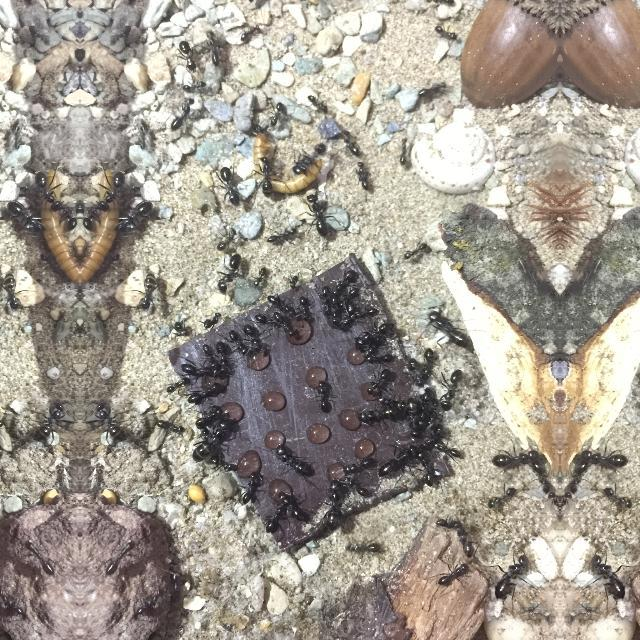Cataglyphis: (264, 422, 318, 480), (425, 298, 473, 350), (490, 548, 530, 606), (590, 548, 630, 606), (100, 534, 138, 580), (22, 534, 60, 580), (290, 139, 330, 181), (307, 361, 338, 415), (116, 195, 154, 238), (6, 195, 44, 238), (489, 438, 536, 472), (92, 397, 125, 445), (270, 479, 306, 523), (584, 438, 630, 472), (327, 456, 375, 488), (36, 397, 68, 445), (323, 496, 362, 534), (437, 364, 465, 416), (346, 342, 396, 371), (378, 441, 416, 479), (234, 466, 266, 510), (204, 449, 250, 479), (434, 556, 471, 592), (357, 316, 398, 348), (304, 188, 330, 238), (97, 167, 125, 213), (214, 162, 242, 208), (348, 404, 394, 432), (35, 167, 63, 213), (262, 489, 288, 538), (168, 94, 198, 134), (321, 478, 343, 532), (399, 398, 426, 442), (214, 254, 242, 296), (412, 78, 454, 106), (325, 266, 359, 300), (340, 306, 388, 330), (359, 367, 396, 398), (530, 456, 556, 500), (564, 456, 590, 500), (186, 379, 224, 409), (239, 264, 269, 302), (484, 481, 518, 514), (602, 481, 636, 514), (425, 435, 465, 463), (134, 270, 158, 316), (2, 270, 26, 316), (150, 411, 186, 441), (178, 356, 214, 386), (80, 196, 106, 234), (54, 196, 80, 234), (454, 518, 478, 558), (344, 534, 382, 558), (400, 237, 432, 265), (267, 222, 301, 248), (176, 35, 198, 75), (340, 454, 376, 478), (256, 154, 276, 196), (236, 18, 264, 48), (420, 344, 440, 386), (242, 321, 270, 351), (272, 310, 298, 342), (200, 340, 224, 374), (417, 387, 437, 427), (227, 328, 250, 362), (204, 26, 222, 66), (317, 282, 335, 322), (216, 226, 240, 254), (267, 290, 295, 314), (434, 21, 461, 45), (353, 162, 373, 194), (306, 91, 330, 117), (340, 130, 362, 158), (328, 296, 356, 318), (266, 98, 286, 128), (296, 292, 314, 324), (134, 120, 152, 152), (8, 120, 26, 152), (180, 76, 208, 96), (250, 262, 270, 290), (200, 308, 223, 332), (171, 316, 193, 339), (396, 132, 410, 168), (164, 374, 186, 396), (406, 352, 418, 382), (285, 271, 301, 293), (0, 411, 10, 441)
